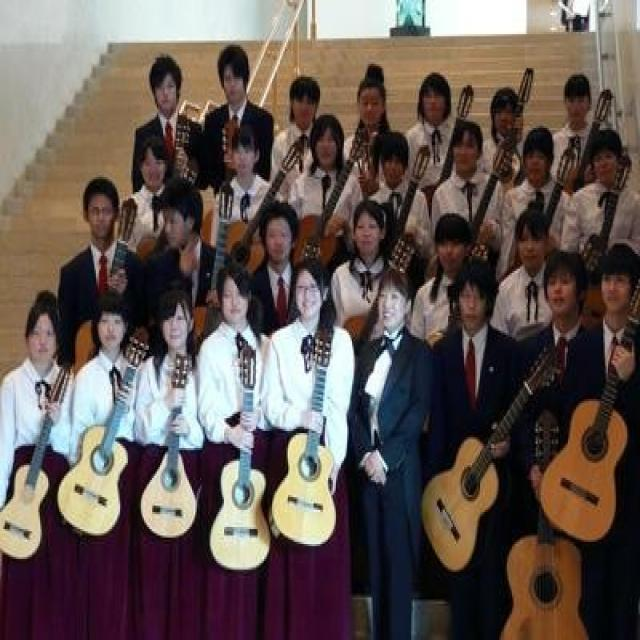guitar: (417, 340, 558, 578), (539, 283, 638, 544), (499, 411, 590, 640), (54, 322, 148, 534), (268, 318, 342, 554), (210, 340, 274, 580), (232, 142, 308, 270), (346, 232, 420, 338), (315, 126, 373, 244), (196, 188, 237, 336), (464, 132, 518, 236), (108, 196, 145, 302), (600, 149, 635, 254), (440, 81, 475, 184), (393, 143, 432, 232), (542, 148, 577, 238), (581, 84, 614, 164), (168, 110, 192, 174), (218, 112, 235, 172)
